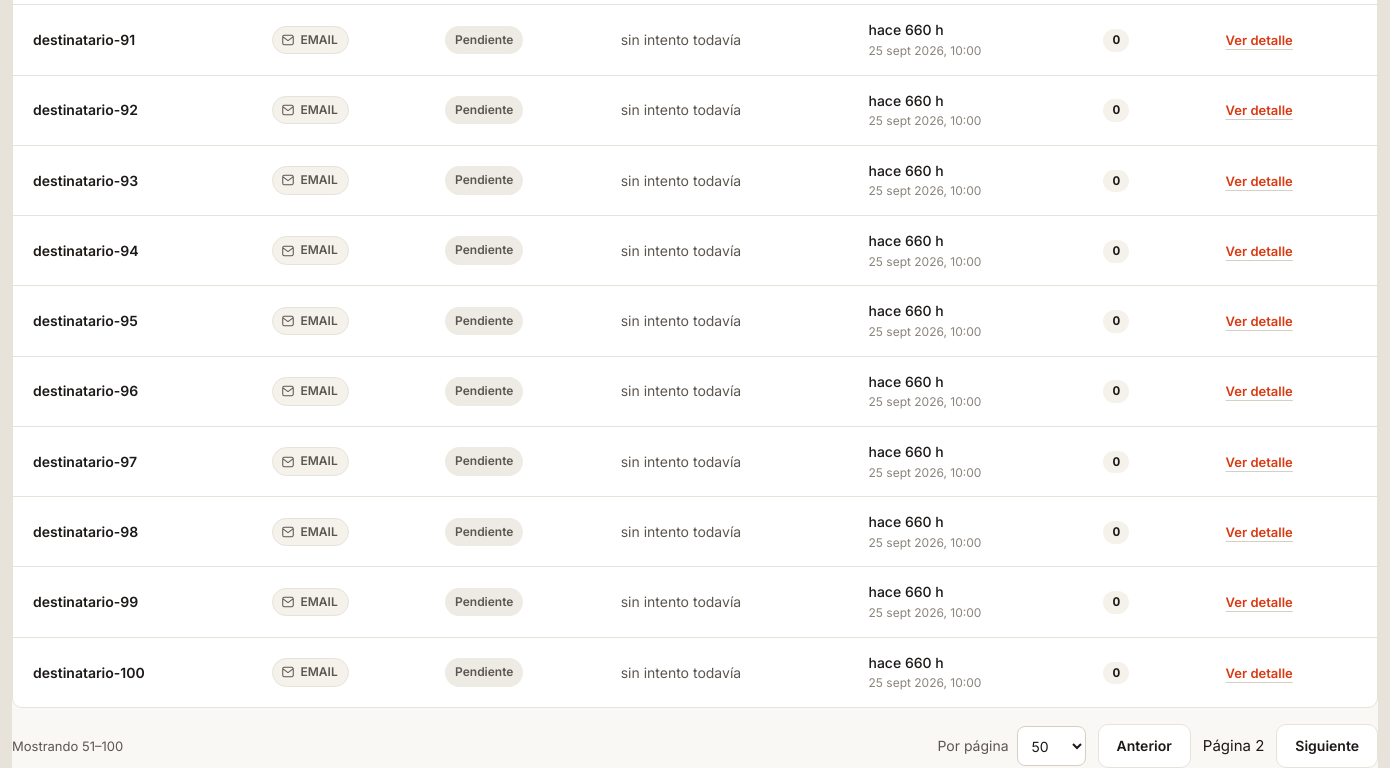
Test: Listado (paginación) › al cambiar el tamaño de página vuelve a la primera página
(page scrolled)
Select "25" in the dropdown labelled "Por página". click: {"x": 1051, "y": 746}
box: [1017, 726, 1086, 766]
(page scrolled)
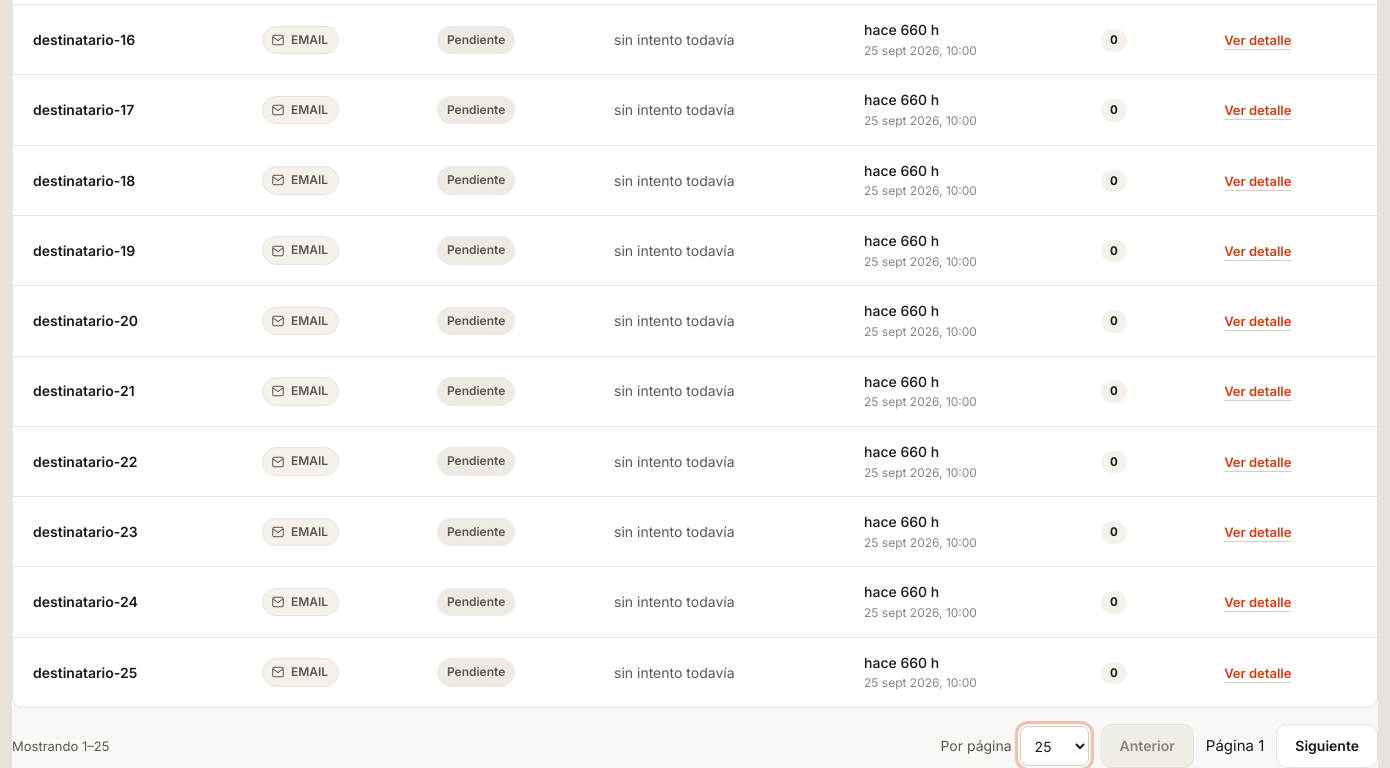
Now the text "Página 1" is shown, box [1206, 734, 1264, 758]
